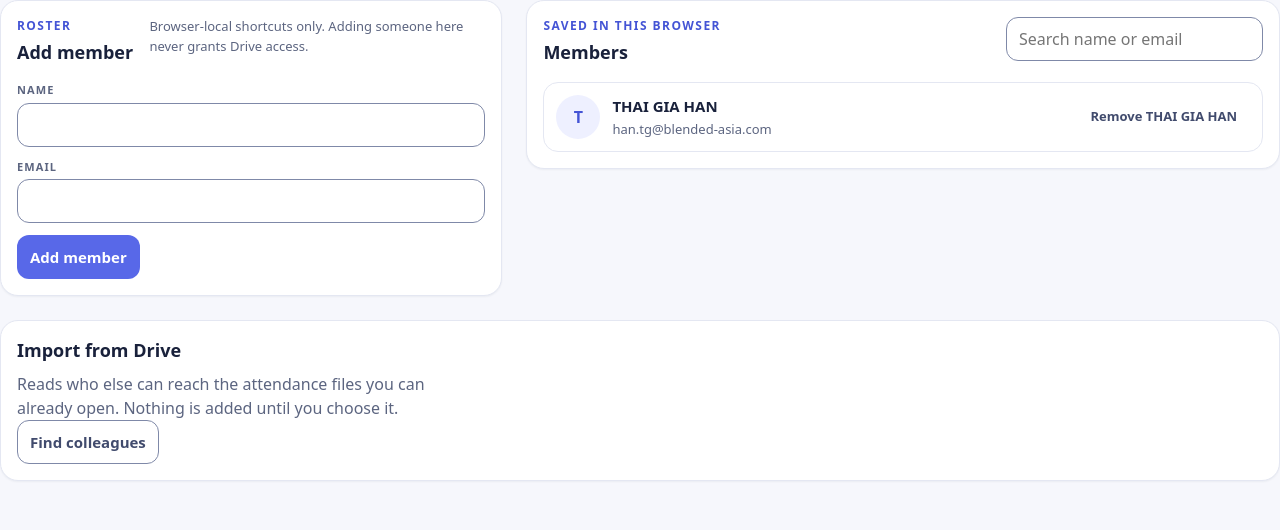
Scenario: MemberRoster › does not offer somebody already on the roster
The image size is (1280, 530).
Expected: the heading "THAI GIA HAN" is shown, left=612, top=96, right=718, bottom=116
Click the button "Find colleagues". click: (88, 442)
box: left=17, top=420, right=159, bottom=464
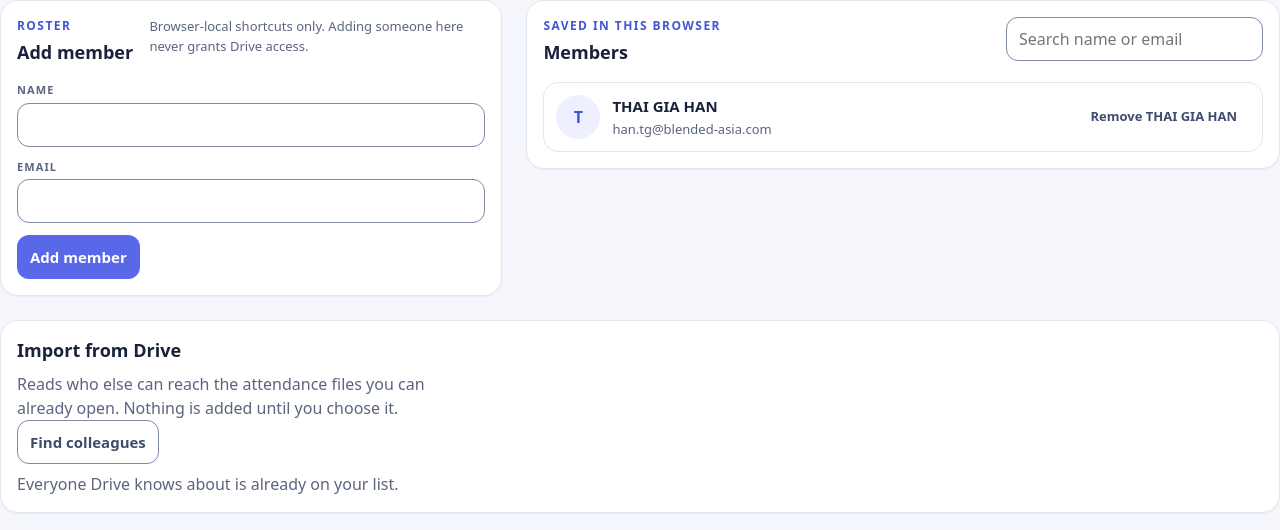
Expected: the text "Everyone Drive knows about is already on your list." is shown, left=17, top=472, right=438, bottom=496
